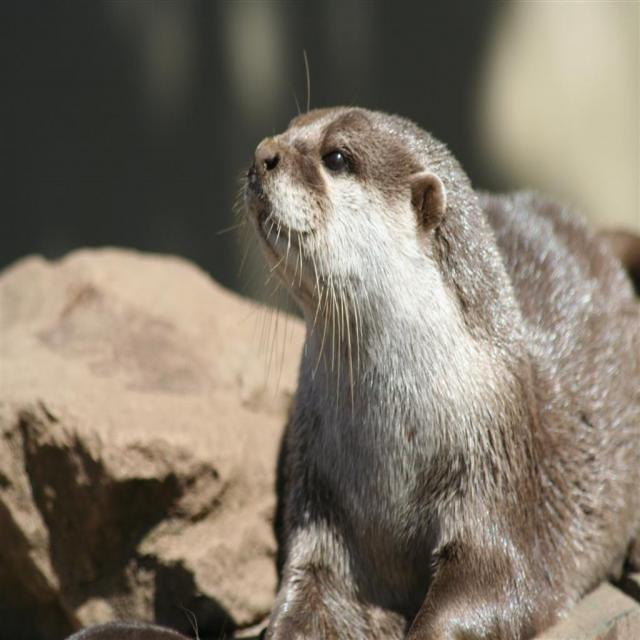otter: (247, 106, 640, 640)
